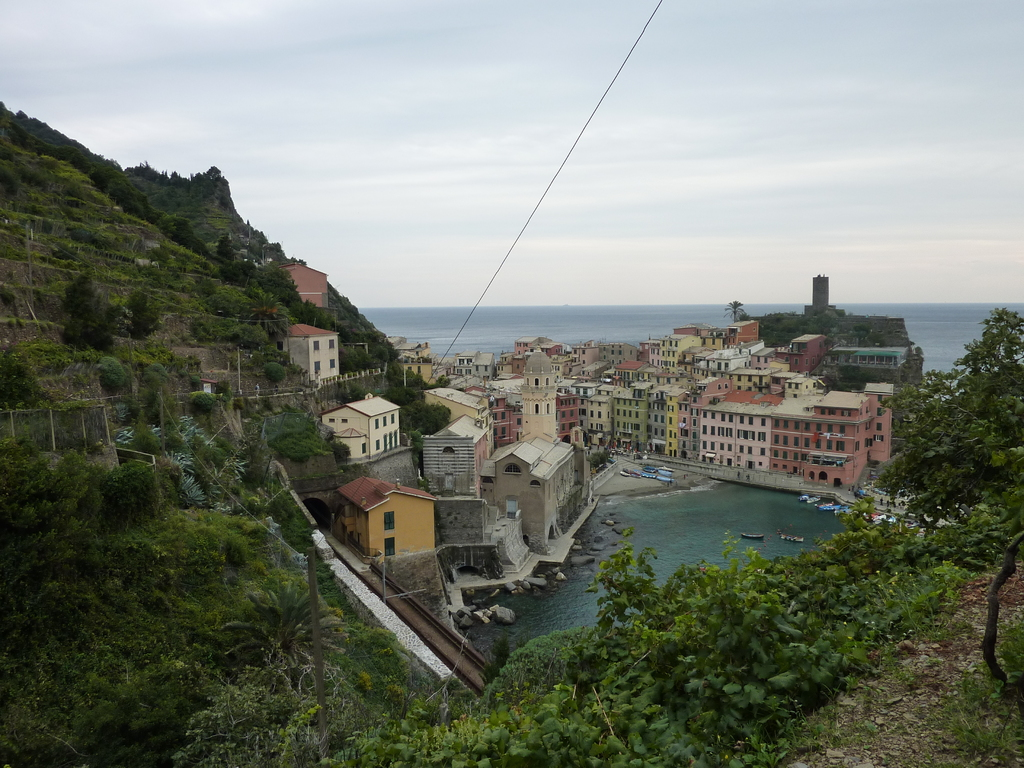Tree: (0, 102, 452, 443), (867, 304, 1023, 687), (200, 560, 345, 767), (64, 263, 120, 349), (759, 311, 888, 346), (115, 283, 158, 341), (721, 295, 744, 323), (586, 449, 608, 474), (739, 311, 753, 325)
